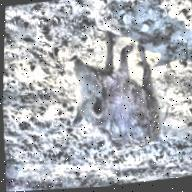boar: (58, 24, 167, 166)
